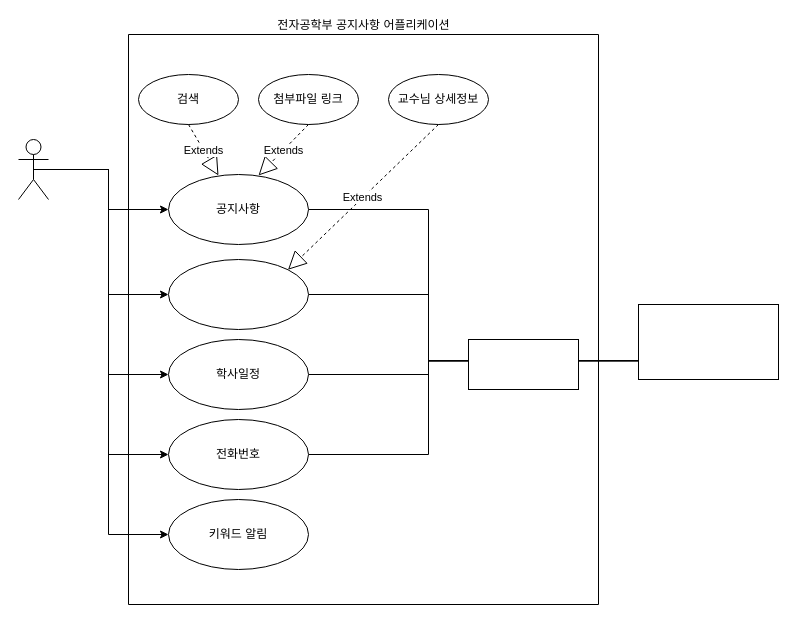
The diagram is 796 pixels wide and 622 high, and some of its shapes have lost their labels. Each missing label, with the centre of its shape:
«actor» 학과 홈페이지: point (708, 342)
교수/연구실 정보: point (238, 294)
데이터 서버: point (523, 364)
사용자: point (33, 169)
